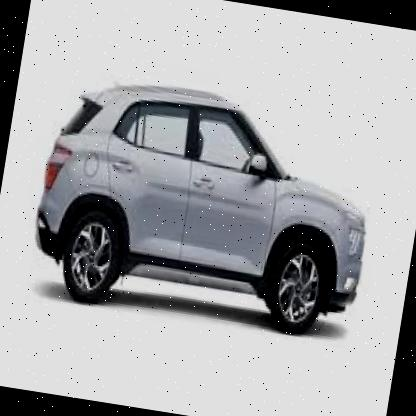car: (13, 60, 400, 358)
